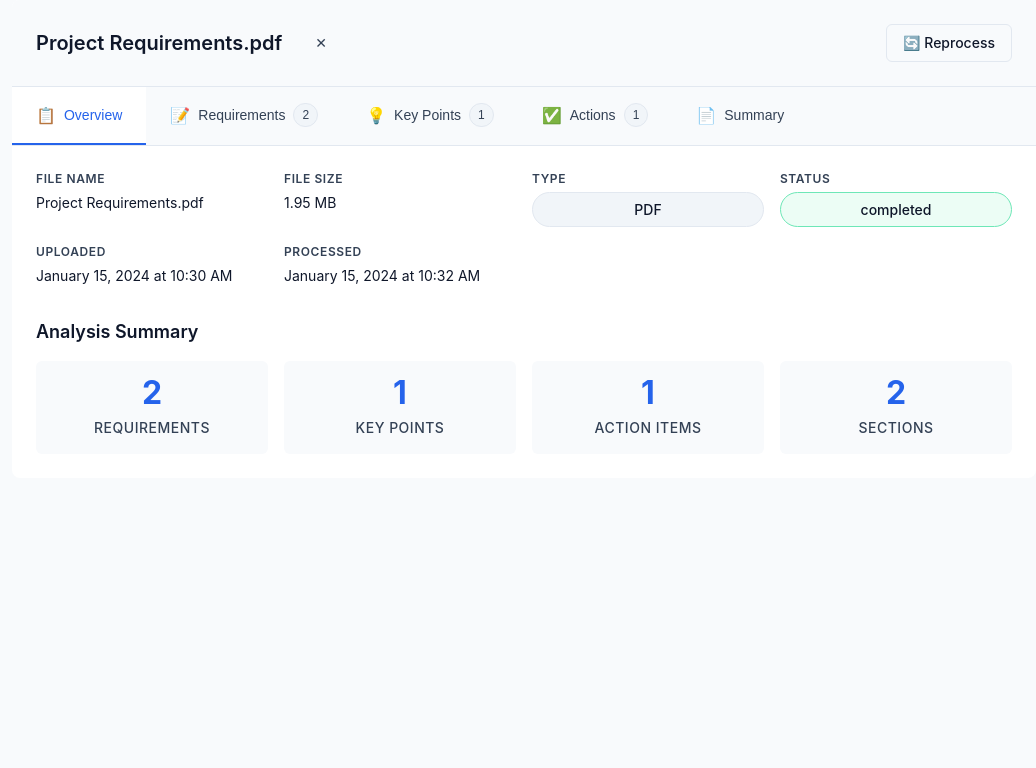
DocumentViewer › switches tabs correctly
Note: Click on Requirements tab using role
Click the button "📝 Requirements 2" at [244, 116], box [146,87,342,145]
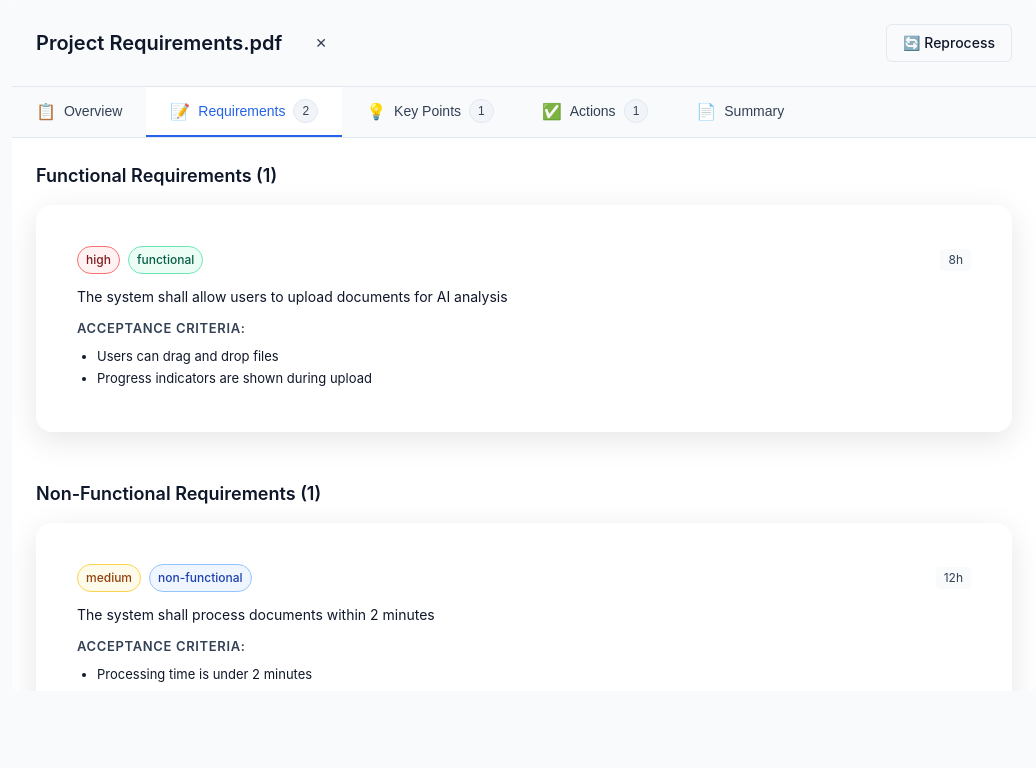
Check: the heading "Functional Requirements (1)" is shown, box [36,165,277,186]
Check: the heading "Non-Functional Requirements (1)" is shown, box [36,483,321,504]
Check: the text "The system shall allow users to upload documents for AI analysis" is shown, box [77,288,508,305]
